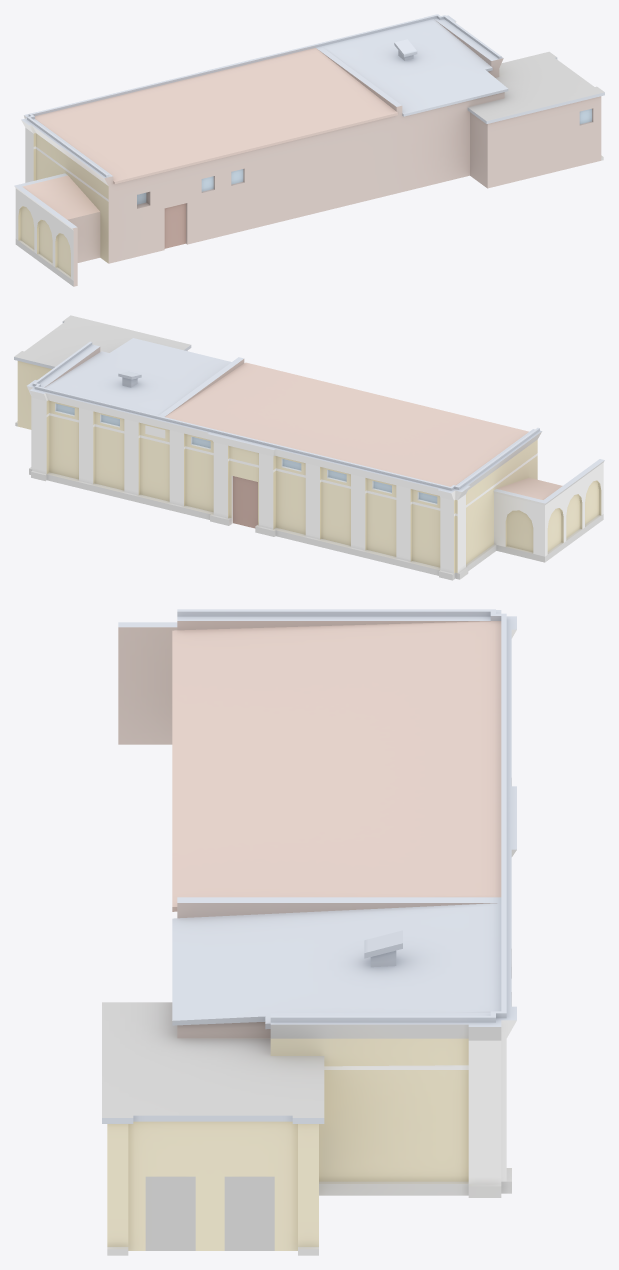
Rendered from kirovdramteatr2.glb.
3 views of the same model, one above another, from view 1: azimuth 30°, elevation 25°; view 2: azimuth 150°, elevation 25°; view 3: azimuth 270°, elevation 25° (orthographic). The views are drawn at different scales.
Parts seen in each view (by area): view 1: kirovdramteatr2; view 2: kirovdramteatr2; view 3: kirovdramteatr2.
Part boxes in pixels (bbox=[...]): kirovdramteatr2: bbox=[14, 14, 604, 286]; kirovdramteatr2: bbox=[14, 315, 604, 580]; kirovdramteatr2: bbox=[102, 609, 516, 1255].
Bounding box in the file's own units: 46.5 × 8.12 × 15.82.
Materials: 1 (1 with a texture image).
